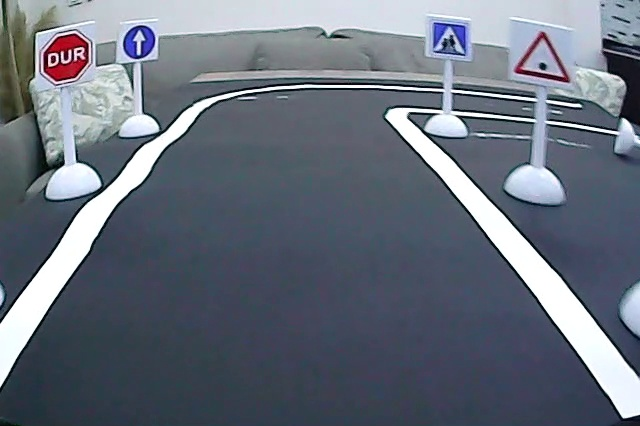green light: (510, 28, 573, 87)
school crossing: (429, 18, 470, 60)
stop sign: (38, 27, 94, 89)
